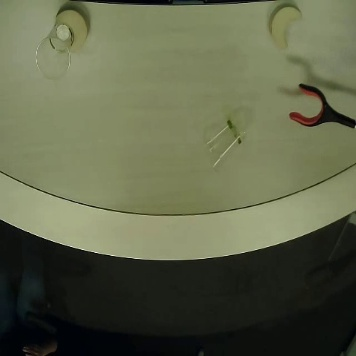empty_cup: (199, 112, 252, 172), (31, 21, 84, 81)
puck: (54, 6, 92, 57), (268, 3, 306, 54)
